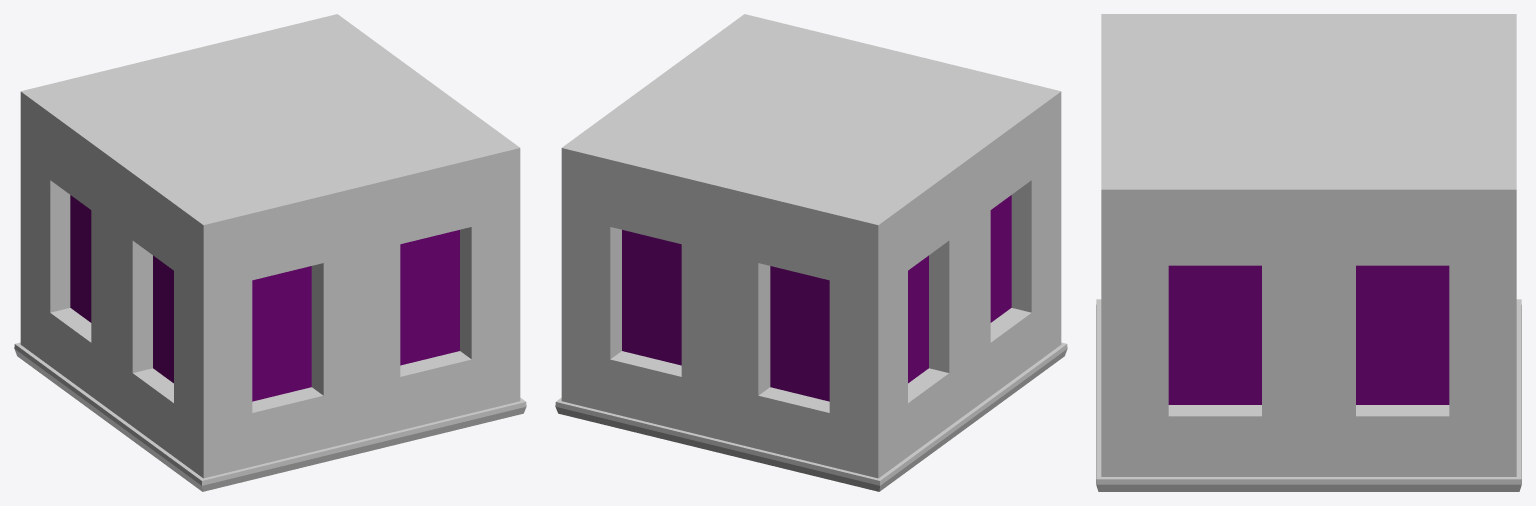
Rendered from square_mid_2.fbx.
The picture shows the model from 3 angles, left to right: view 1: azimuth 30°, elevation 25°; view 2: azimuth 150°, elevation 25°; view 3: azimuth 270°, elevation 25°; orthographic projection. The views are drawn at different scales.
Visible parts, largest first — view 1: square_mid_2.001; view 2: square_mid_2.001; view 3: square_mid_2.001.
Part boxes in pixels (x1,y1,x2,y2): square_mid_2.001: [14, 14, 526, 491]; square_mid_2.001: [555, 14, 1067, 491]; square_mid_2.001: [1096, 14, 1521, 491].
Bounding box in the file's own units: 512 × 400 × 512.
